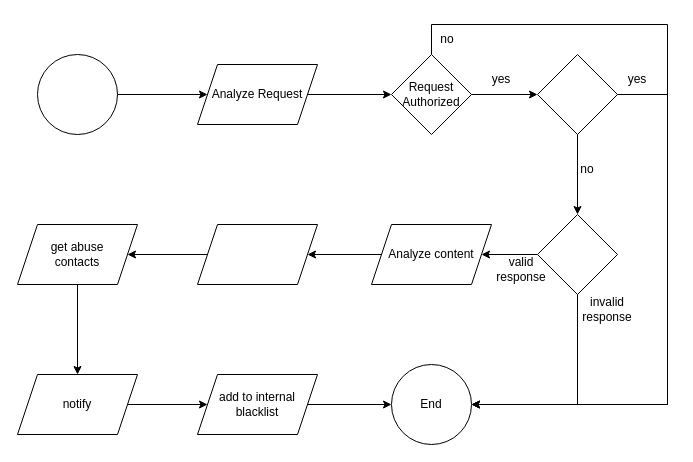
Image size: 693x462. Some labels were removed from this diagram. Here are the shapes that lost their labels. From the top down, the centre of each, then its label:
At (x=77, y=94): "Start".
At (x=577, y=94): "URL already known".
At (x=257, y=254): "Classification".
At (x=577, y=254): "Access URL".
